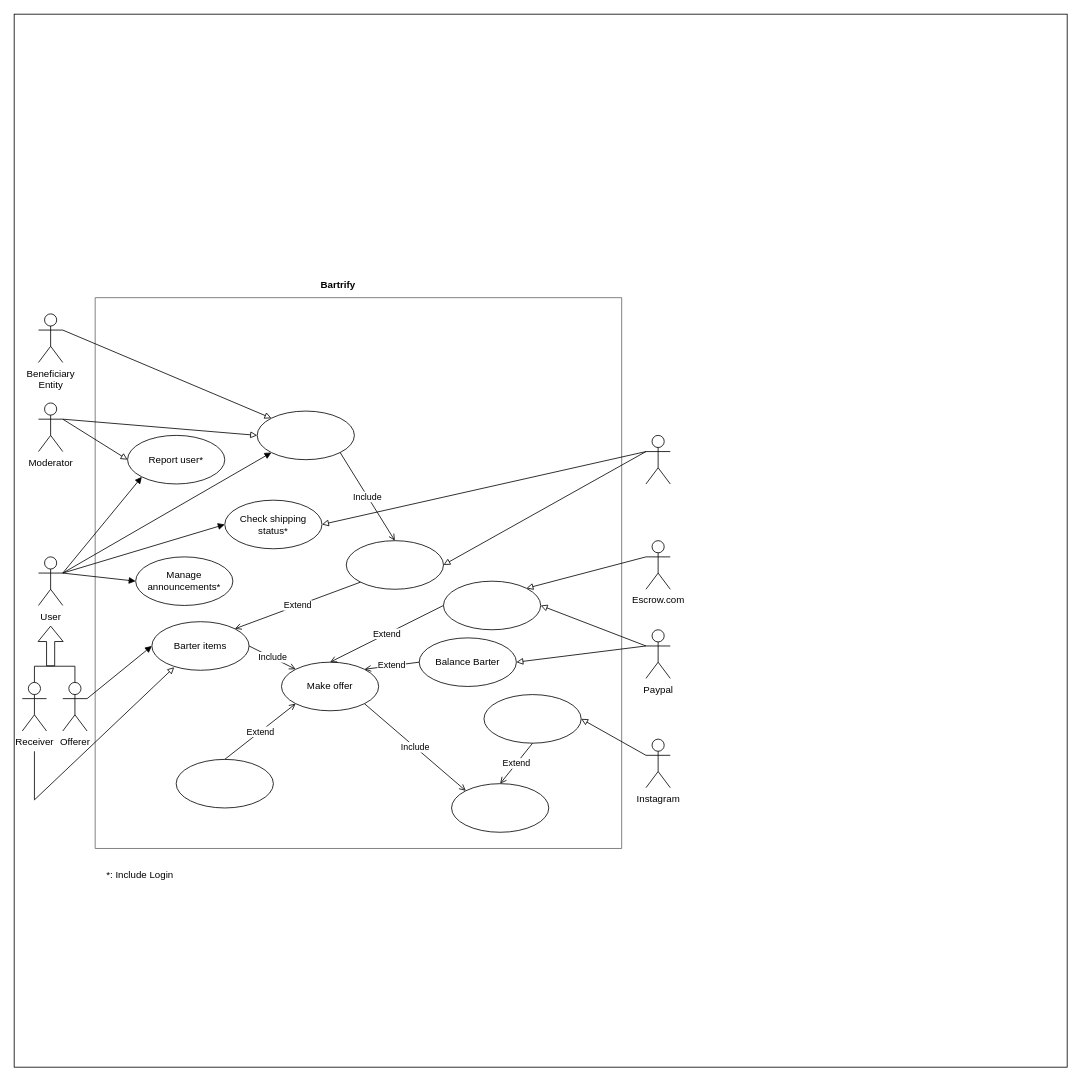
Image size: 1081x1081. Some labels were removed from this diagram. The centre of each missing label's shape, as x and y in pixels:
"Activate Escrow" goes at point 492,605.
"Donate*" goes at point 305,435.
"Login" goes at point 500,807.
"Login with Instagram" goes at point 532,718.
"Organize shipping" goes at point 394,564.
"Send chat message" goes at point 224,783.
"ShipStation API" goes at point 657,459.
